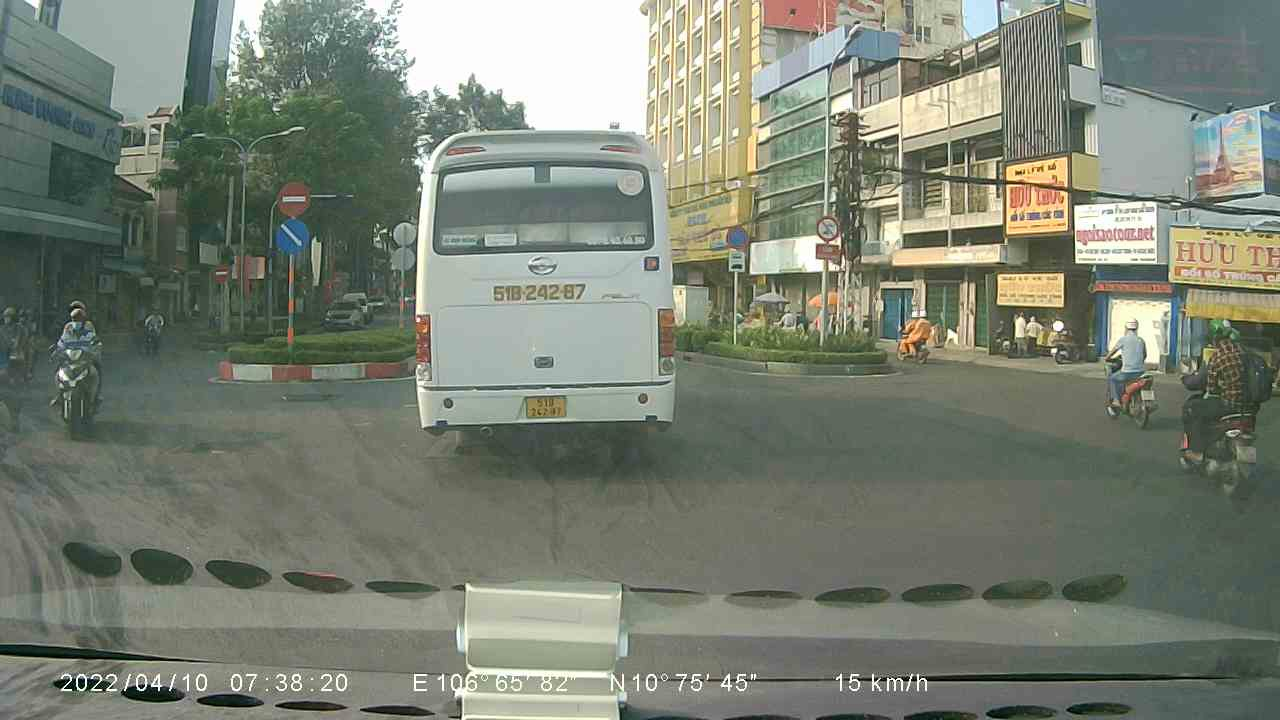Bien khac: (813, 213, 840, 240)
Cam di nguoc chieu: (274, 181, 310, 217)
Cam do xe: (724, 221, 754, 250)
Huong di phai re phai: (273, 220, 309, 256)
